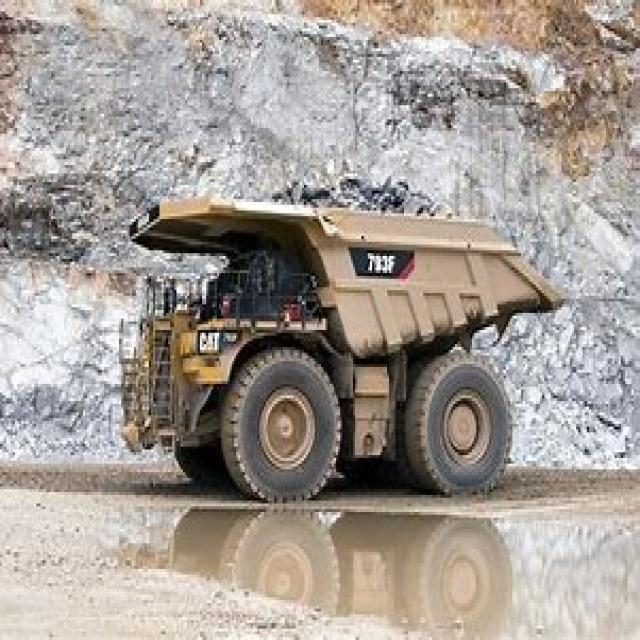dump_truck: (110, 168, 570, 509)
